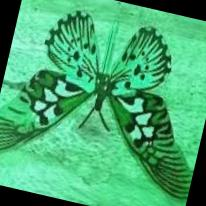butterfly: (0, 11, 191, 198)
